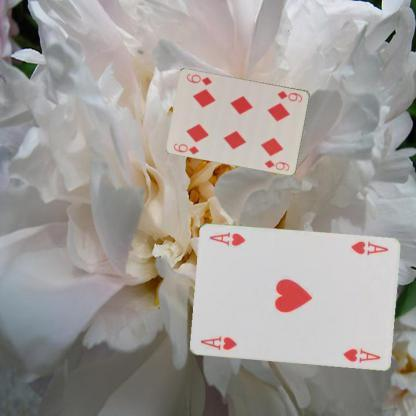6d: (171, 140, 201, 156), (275, 88, 304, 103)
Ah: (348, 238, 390, 257), (198, 333, 238, 352)
